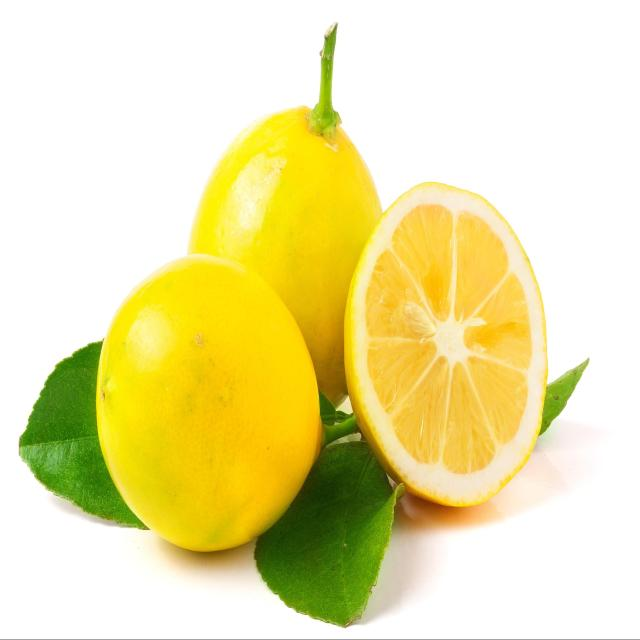lemon: (337, 173, 554, 517), (93, 250, 327, 561)
